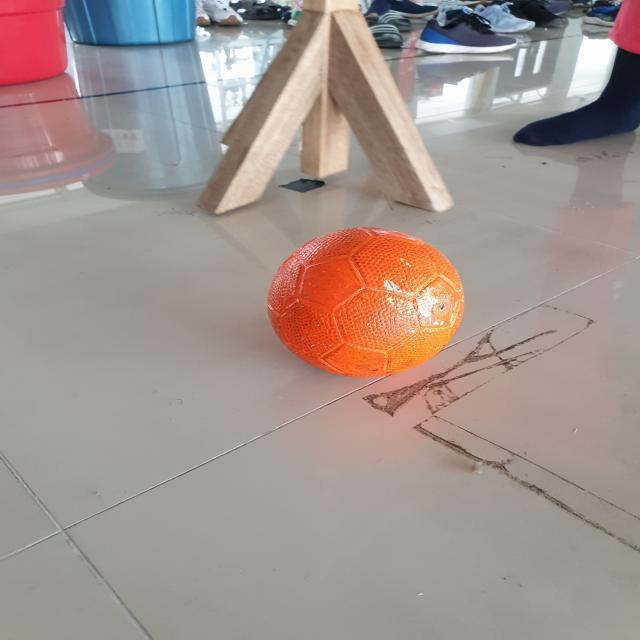bola: (268, 224, 472, 384)
